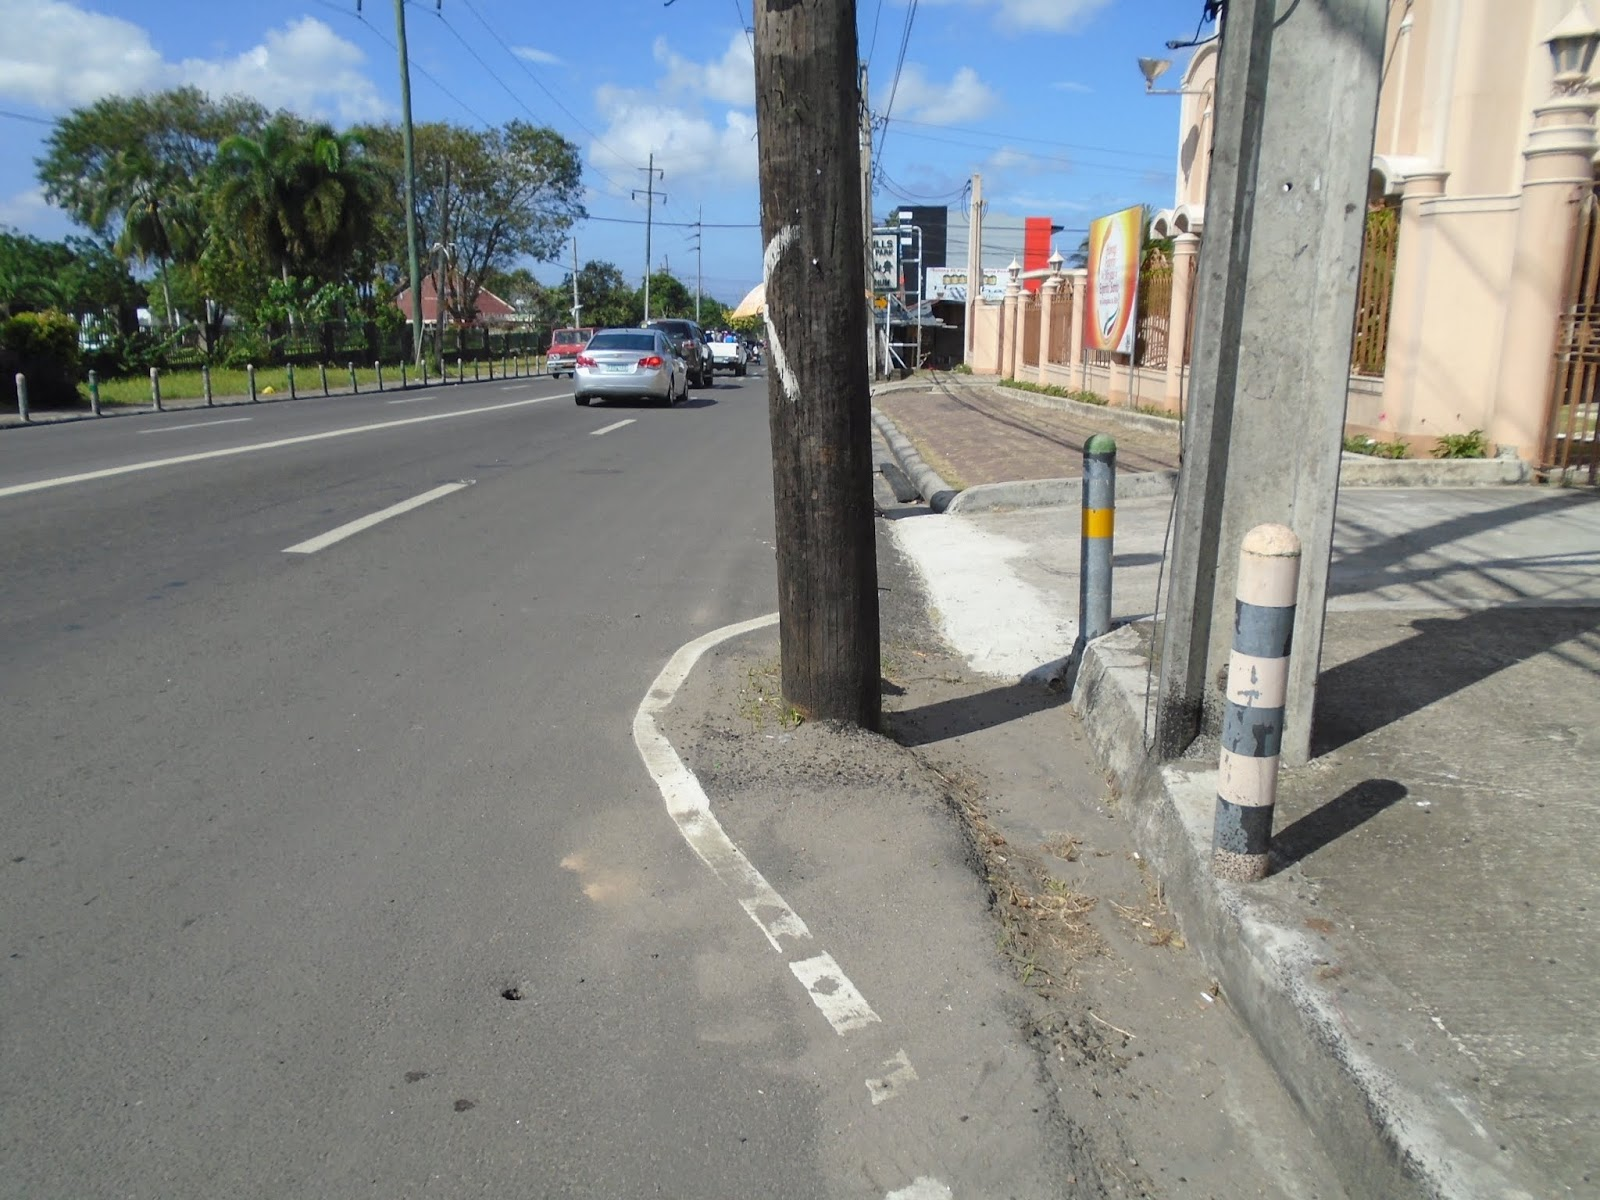car: (574, 325, 687, 407)
pole: (1165, 3, 1320, 758), (751, 5, 888, 729), (1208, 516, 1303, 884), (1072, 435, 1120, 645)
